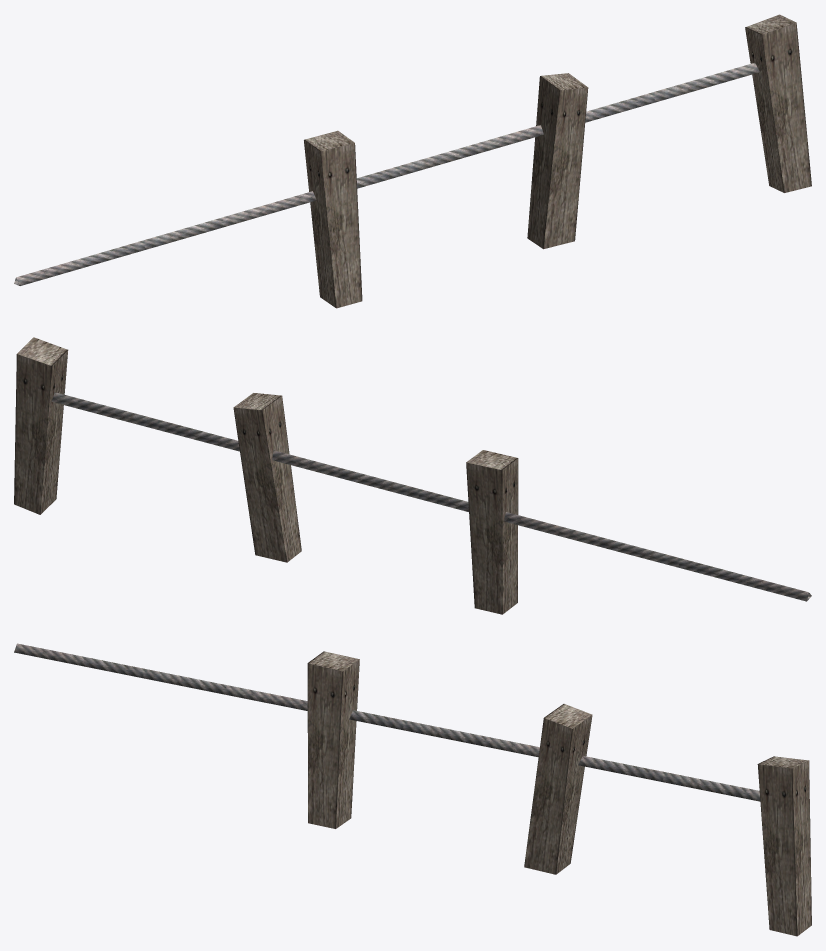
File: d_sg_shouyou_langan01_qt.FBX
3 views of the same model, one above another, from view 1: azimuth 30°, elevation 25°; view 2: azimuth 150°, elevation 25°; view 3: azimuth 330°, elevation 25° (orthographic).
Visible parts, largest first — view 1: d_sg_shouyou_matou01_qt; view 2: d_sg_shouyou_matou01_qt; view 3: d_sg_shouyou_matou01_qt.
Boxes of the visible parts, bbox=[...] form: d_sg_shouyou_matou01_qt: bbox=[14, 14, 811, 308]; d_sg_shouyou_matou01_qt: bbox=[14, 337, 811, 614]; d_sg_shouyou_matou01_qt: bbox=[14, 643, 811, 936].
Size of the model in its own units: 6.81 by 1.38 by 0.4491.
